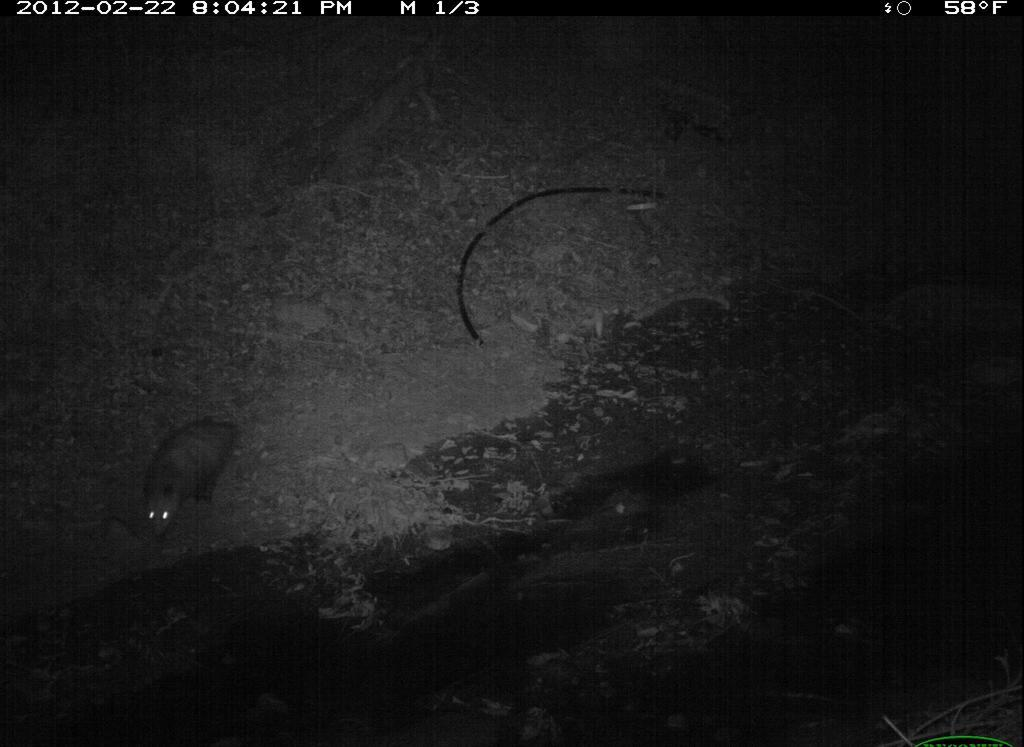opossum: (125, 413, 259, 543)
